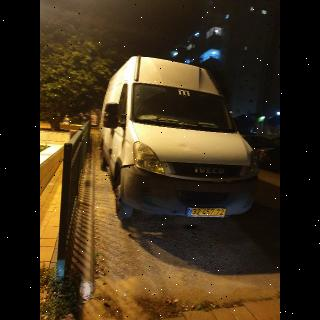LicensePlate: (191, 208, 226, 216)
